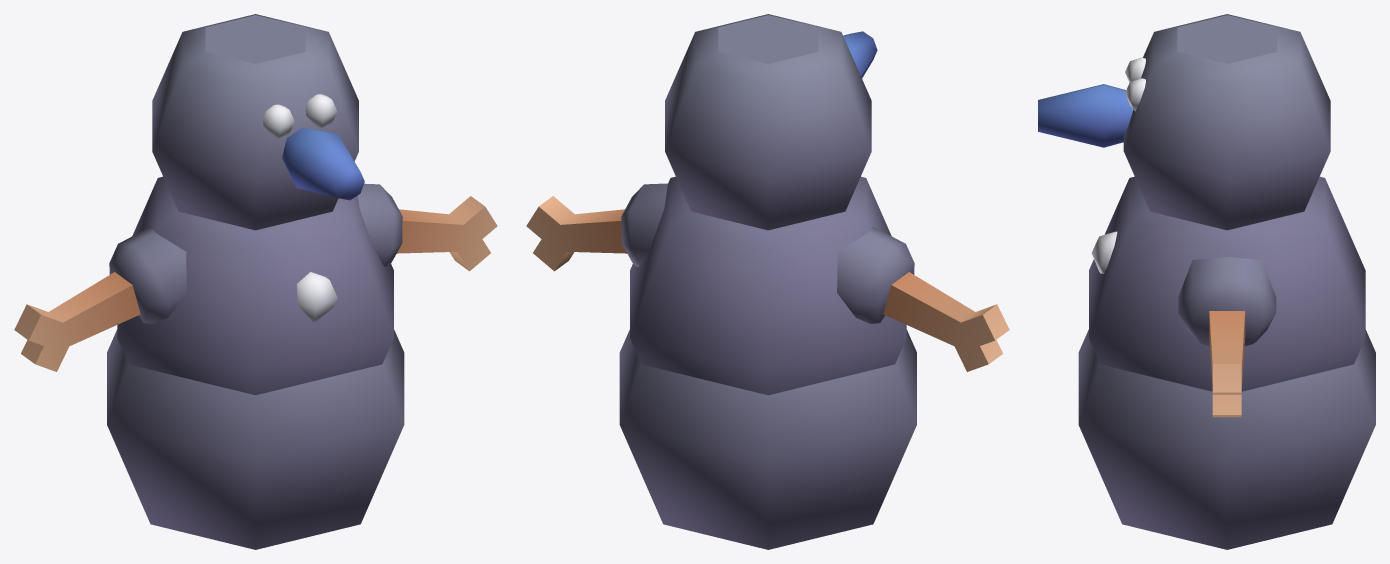
Rendered from snowman.glb.
The picture shows the model from 3 angles, left to right: view 1: azimuth 30°, elevation 25°; view 2: azimuth 150°, elevation 25°; view 3: azimuth 270°, elevation 25°; orthographic projection.
Parts seen in each view (by area): view 1: snowman; view 2: snowman; view 3: snowman.
Part boxes in pixels (bbox=[...]): snowman: bbox=[14, 14, 497, 549]; snowman: bbox=[526, 14, 1009, 549]; snowman: bbox=[1038, 14, 1375, 549].
Size of the model in its own units: 1.1 by 1.06 by 0.6882.
1 material, 1 textured.
